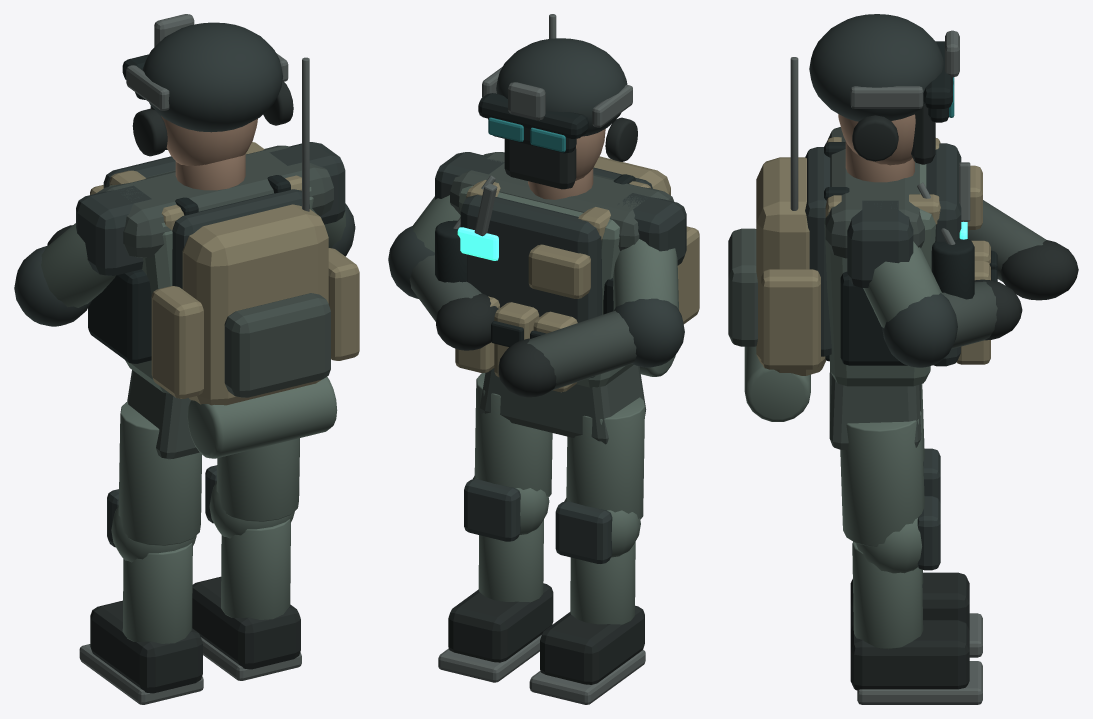
The model's file is steel_tide_operator.glb.
The picture shows the model from 3 angles, left to right: view 1: azimuth 30°, elevation 25°; view 2: azimuth 150°, elevation 25°; view 3: azimuth 270°, elevation 25°; orthographic projection. The views are drawn at different scales.
Visible parts, largest first — view 1: BackpackGeometry, OperatorBodyGeometry, LeftLegRigGeometry, RightLegRigGeometry, HelmetGeometry, VestGeometry; view 2: OperatorBodyGeometry, LeftLegRigGeometry, RightLegRigGeometry, VestGeometry, HelmetGeometry, BackpackGeometry, TeamPatchGeometry; view 3: OperatorBodyGeometry, RightLegRigGeometry, BackpackGeometry, VestGeometry, HelmetGeometry, LeftLegRigGeometry.
Part boxes in pixels (x1,y1,x2,y2): BackpackGeometry: [151, 57, 359, 458]; OperatorBodyGeometry: [14, 92, 355, 459]; LeftLegRigGeometry: [79, 401, 203, 704]; RightLegRigGeometry: [192, 438, 301, 680]; HelmetGeometry: [122, 14, 293, 156]; VestGeometry: [88, 142, 309, 363]; OperatorBodyGeometry: [388, 117, 686, 444]; LeftLegRigGeometry: [529, 397, 645, 704]; RightLegRigGeometry: [438, 373, 553, 682]; VestGeometry: [435, 167, 652, 392]; HelmetGeometry: [478, 38, 637, 161]; BackpackGeometry: [549, 14, 699, 376]; TeamPatchGeometry: [457, 227, 498, 260]; OperatorBodyGeometry: [824, 77, 1078, 449]; RightLegRigGeometry: [840, 411, 982, 704]; BackpackGeometry: [728, 57, 849, 421]; VestGeometry: [805, 137, 997, 366]; HelmetGeometry: [809, 14, 959, 161]; LeftLegRigGeometry: [850, 384, 982, 657].
Bounding box in the file's own units: 1.11 × 2.15 × 1.06.
